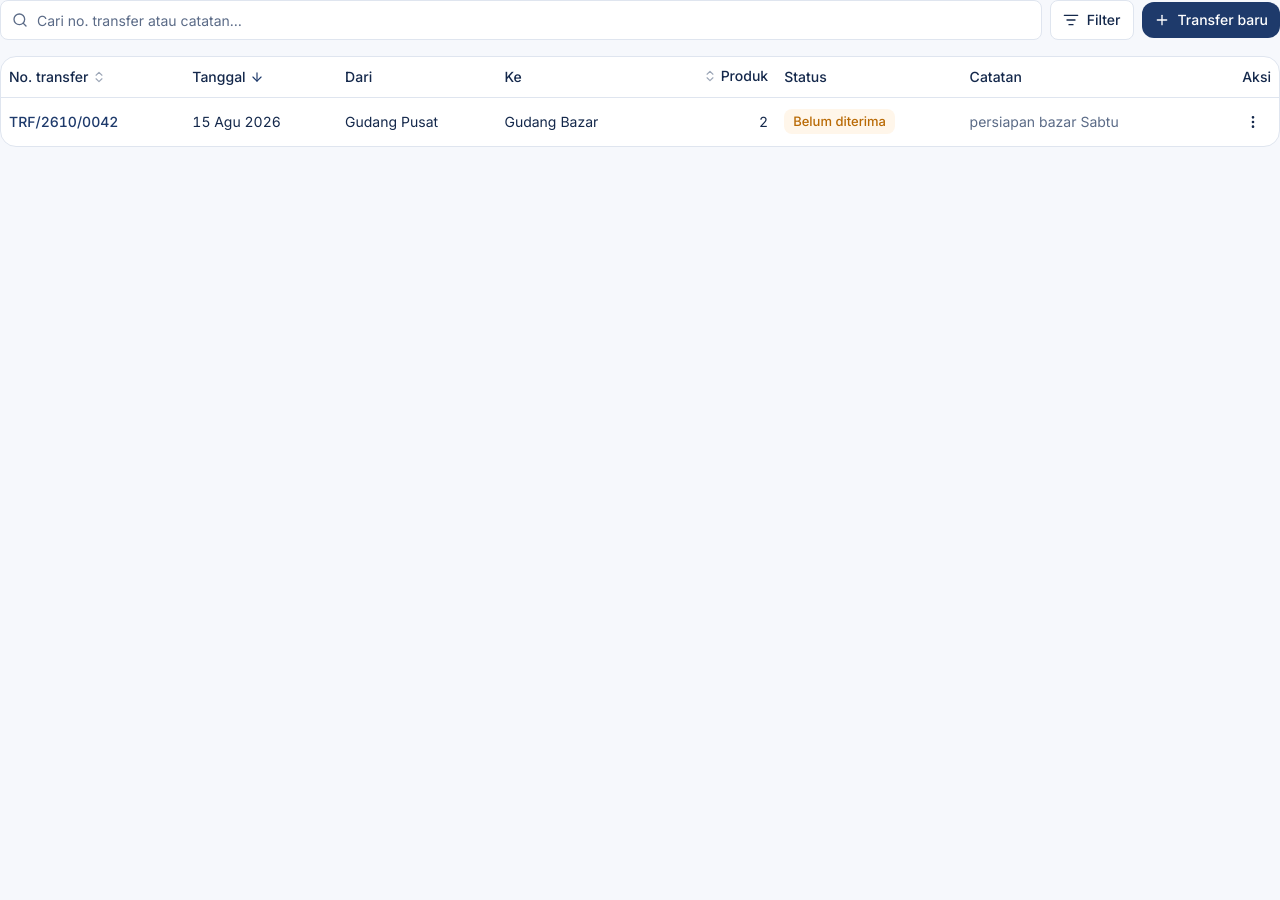
Test: stock isolation › offers only the warehouses the user may reach
This screenshot has width=1280, height=900.
What coordinates should you click on to do the following:
click the button "Filter"
I would click on:
 (1092, 20)
Its box is [1050,0,1134,40].
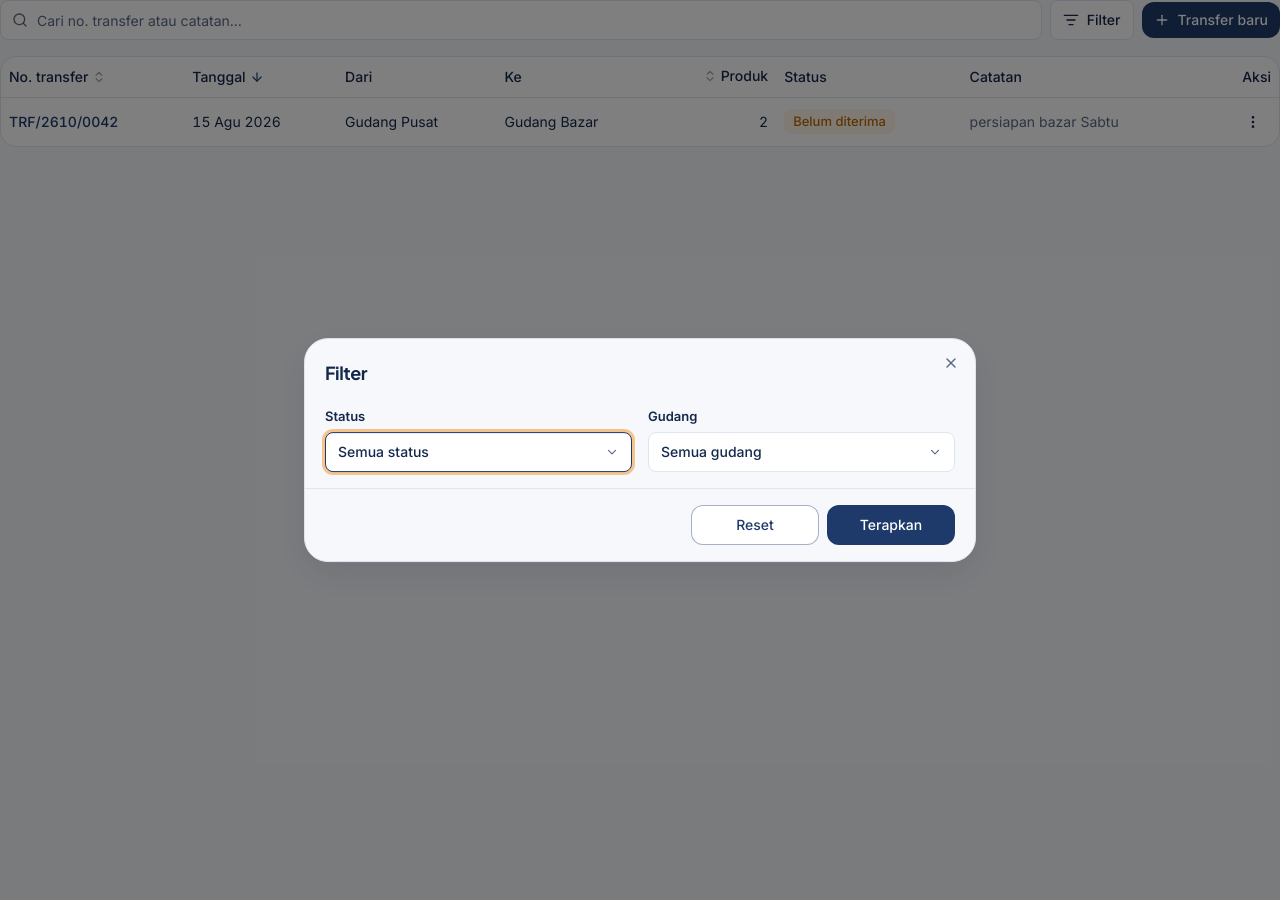
What coordinates should you click on to do the following:
click the button with aria-label "Filter gudang — asal maupun tujuan"
I would click on:
 (711, 451)
Its box is [648,432,955,472].
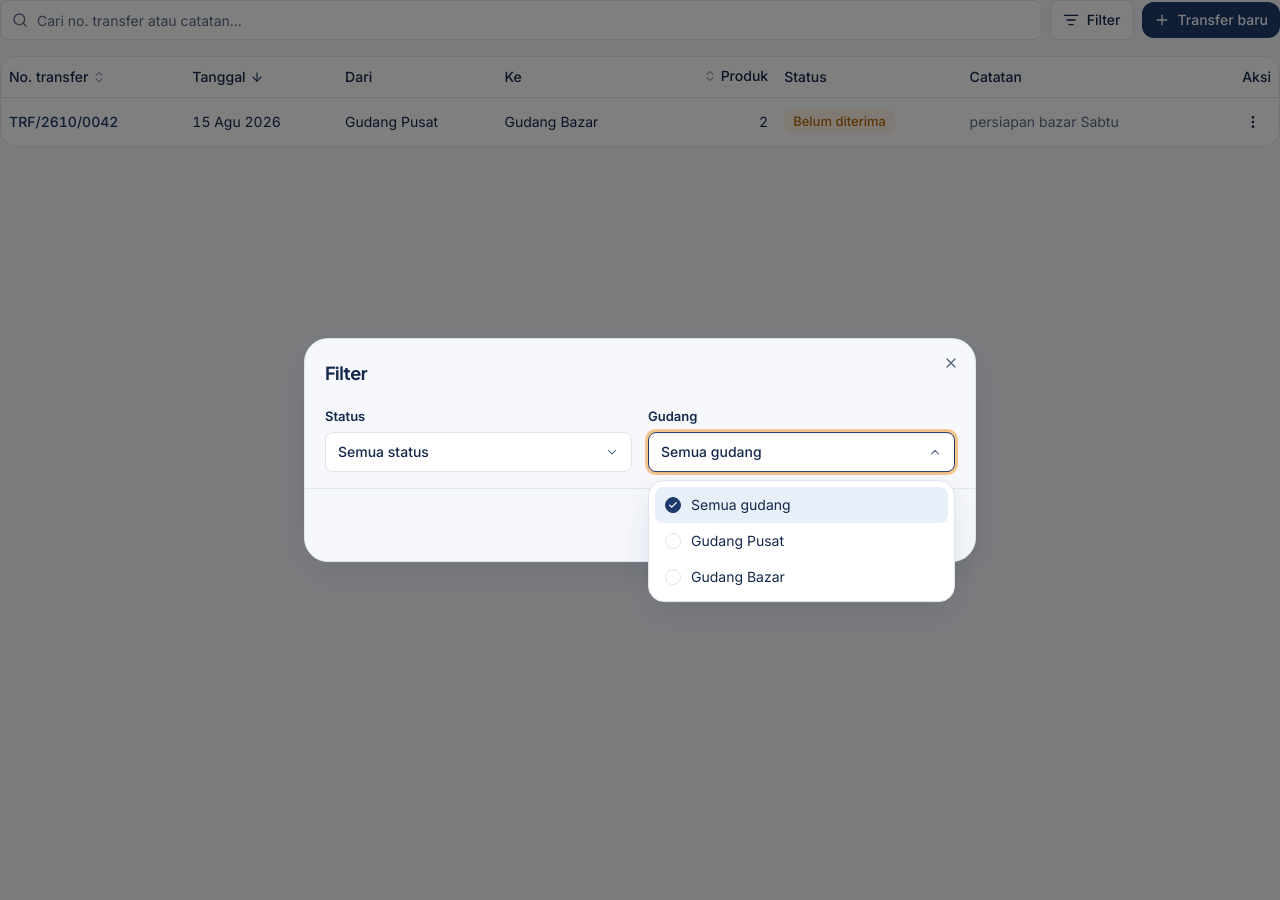
Check: the option "Gudang Bazar" is shown, box [665,568,785,585]
Check: the option "Gudang Pusat" is shown, box [665,532,784,549]
